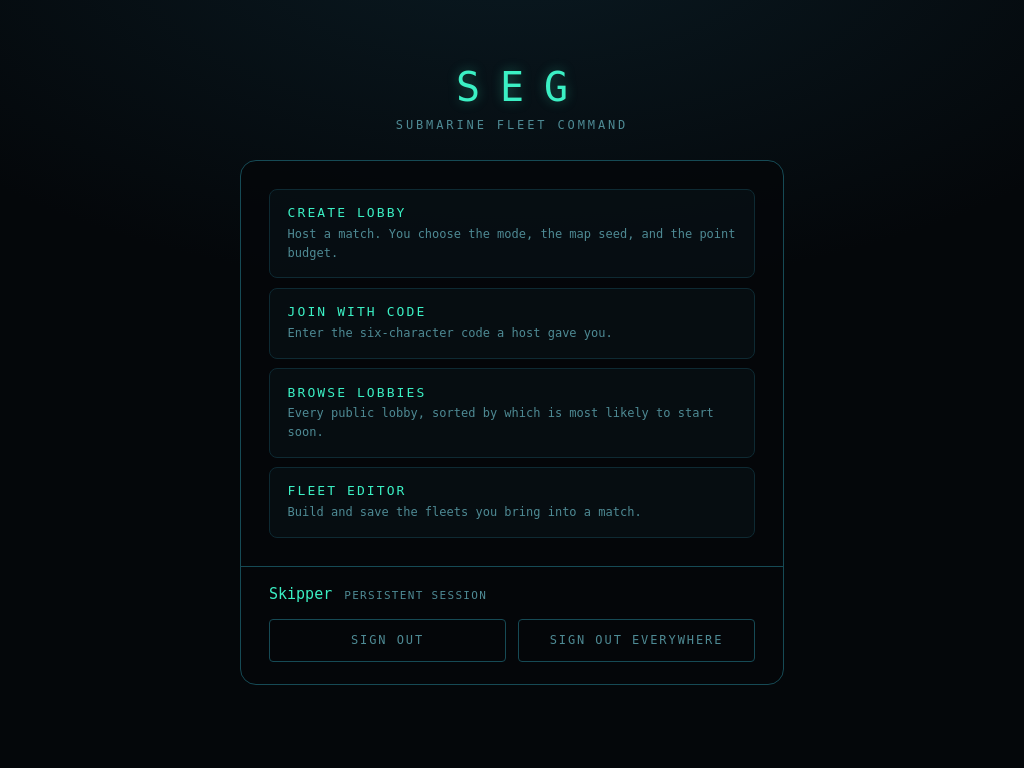
the home page, signed in › returns to the menu from a destination
Click the button "FLEET EDITOR". click: (512, 503)
box: [269,467,755,538]
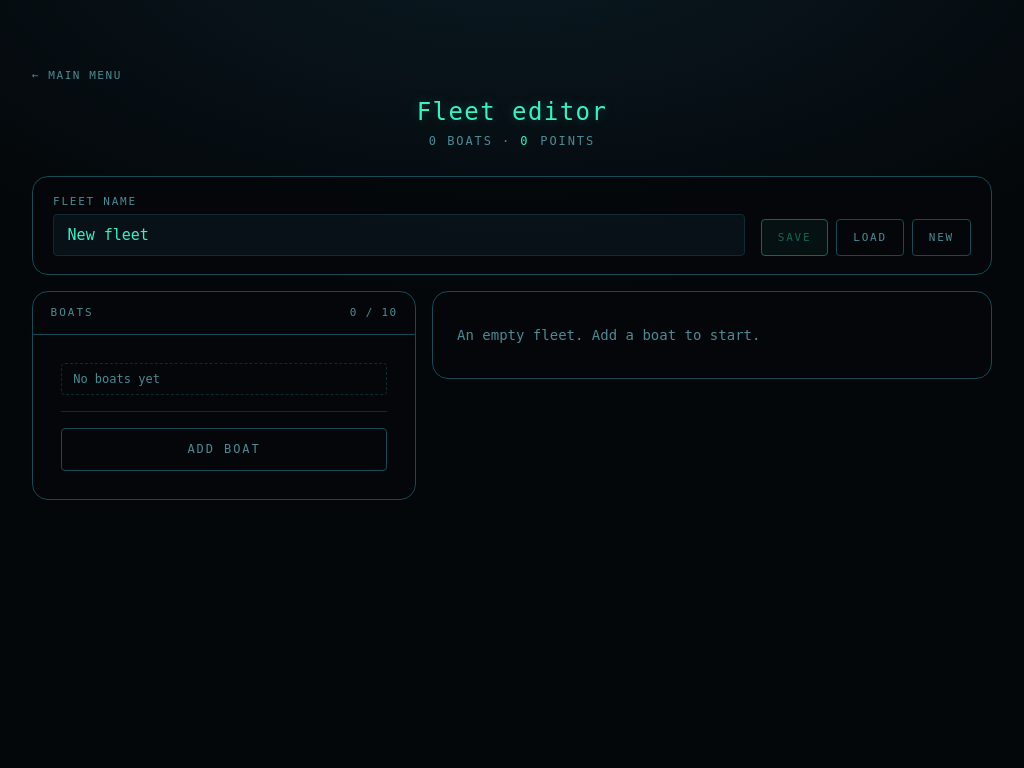
Click the button "← MAIN MENU". click: (77, 76)
box: [32,69,122,82]
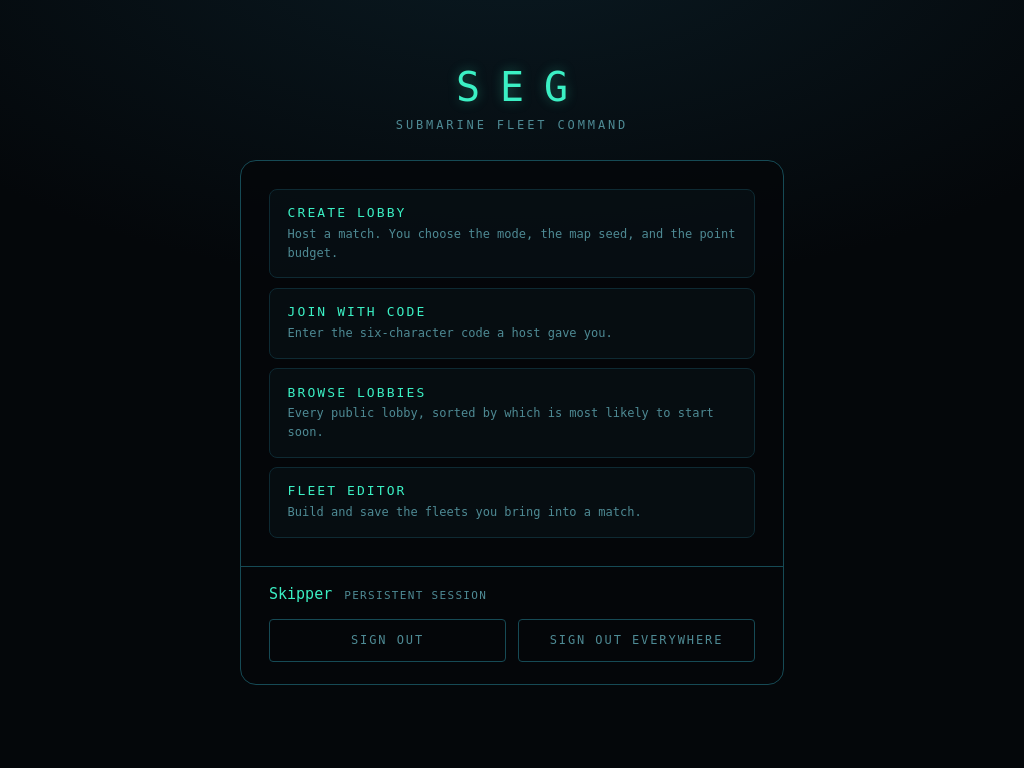
expect the button "CREATE LOBBY" is shown: met, box [269,189,755,278]
